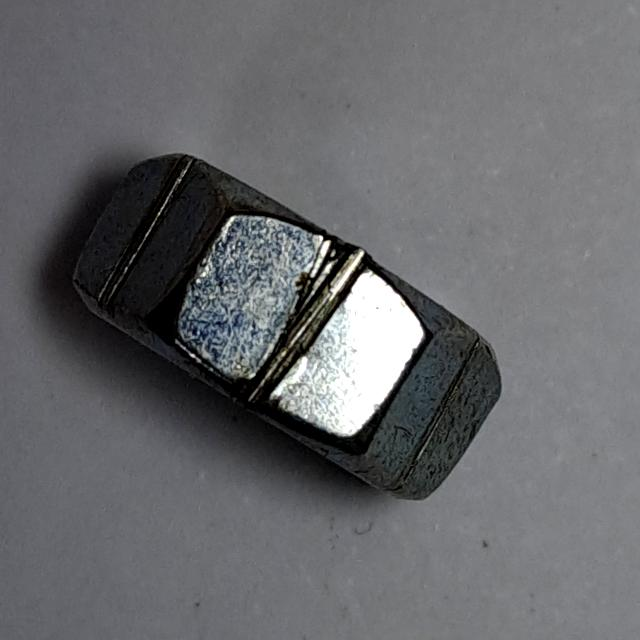Side_Scratches: (66, 136, 519, 514)
